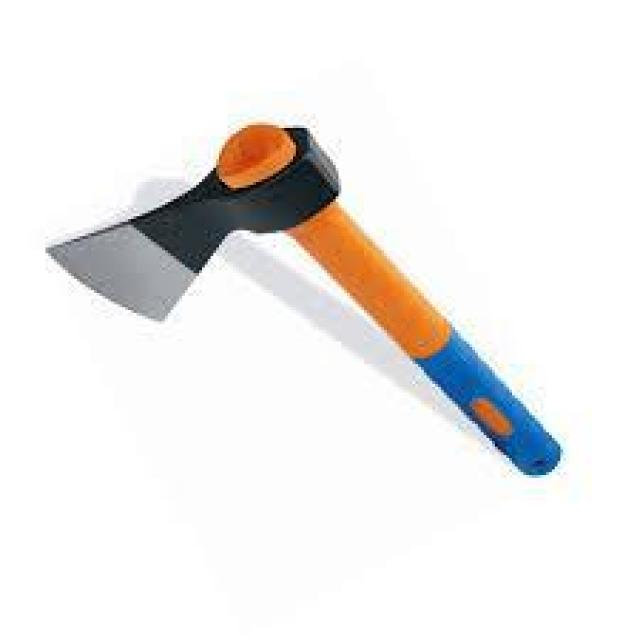Kapak: (51, 114, 563, 484)
